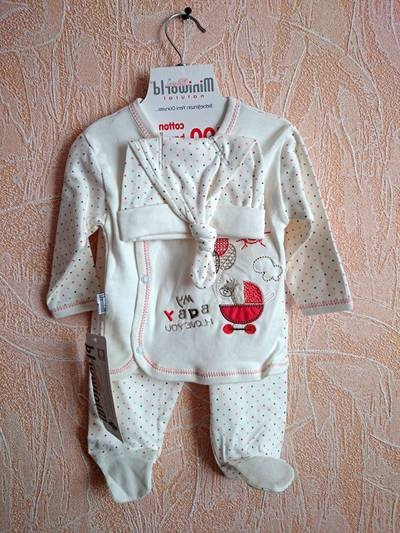Body: (43, 48, 359, 510)
